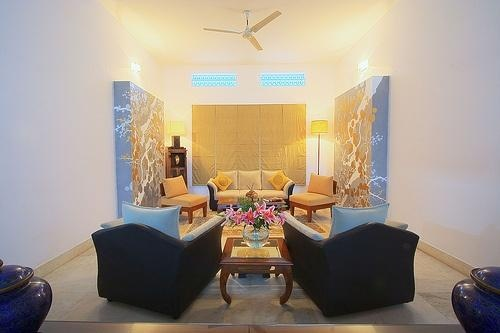chair: (92, 214, 225, 321), (284, 219, 425, 317), (291, 173, 337, 222), (161, 178, 208, 224)
sofa: (206, 171, 295, 211)
